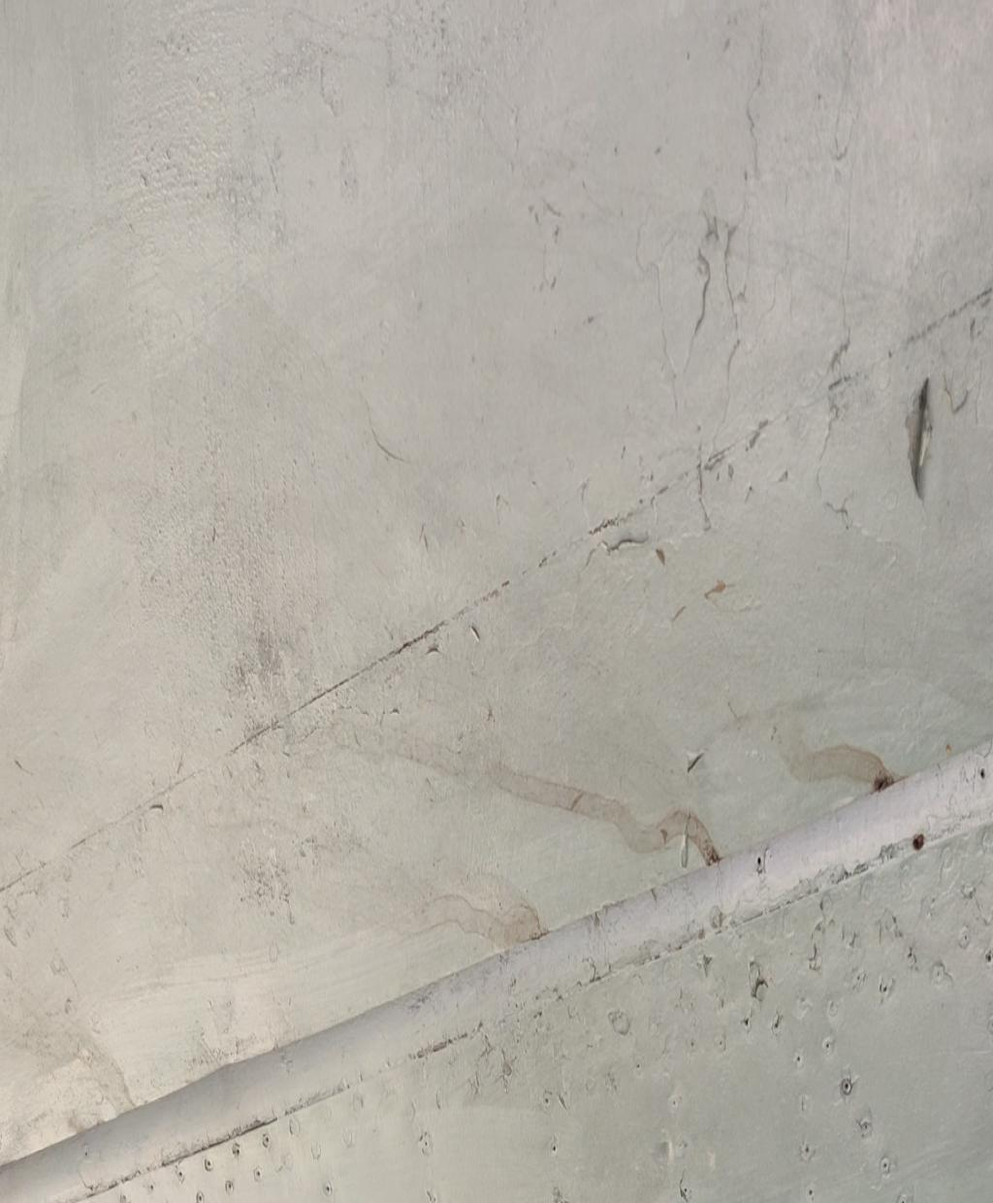corrosion: (905, 373, 938, 499), (604, 498, 653, 563)
